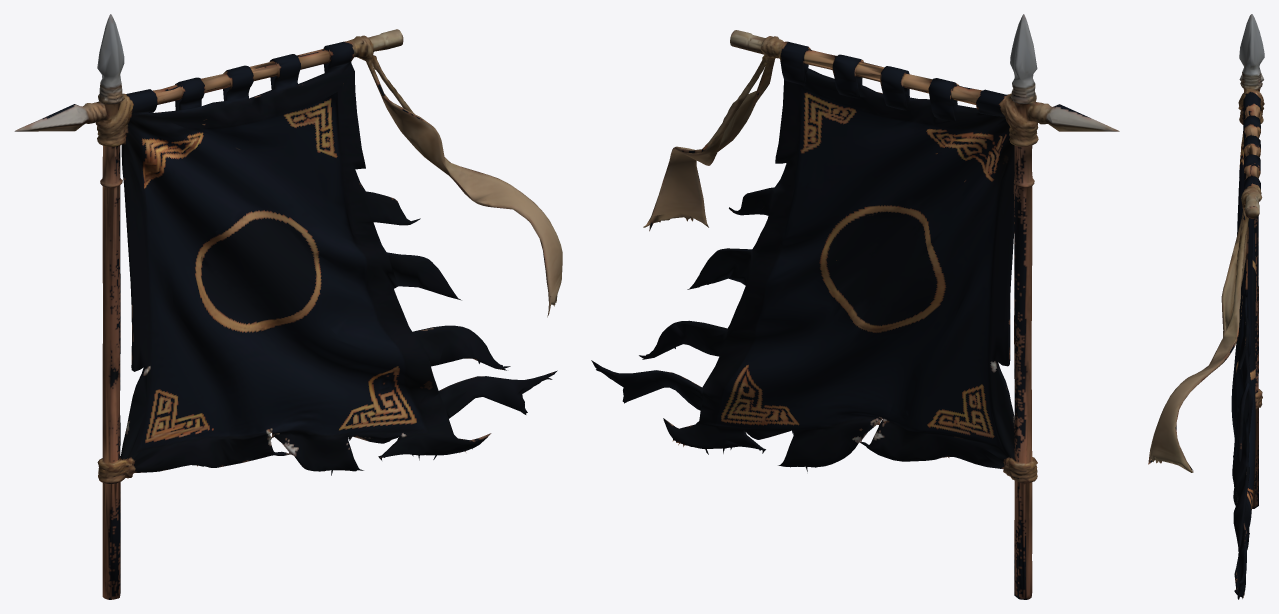
The model's file is banner-black-hy3-v1.glb.
3 renders of one model, left to right at view 1: azimuth 30°, elevation 25°; view 2: azimuth 150°, elevation 25°; view 3: azimuth 270°, elevation 25°, orthographic. The views are drawn at different scales.
Parts seen in each view (by area): view 1: node_0; view 2: node_0; view 3: node_0.
Boxes of the visible parts, left/top/right/bottom form: node_0: left=14, top=14, right=562, bottom=599; node_0: left=591, top=14, right=1119, bottom=599; node_0: left=1148, top=14, right=1264, bottom=599.
Size of the model in its own units: 3.66 by 3.8 by 0.8151.
1 material, 1 textured.
